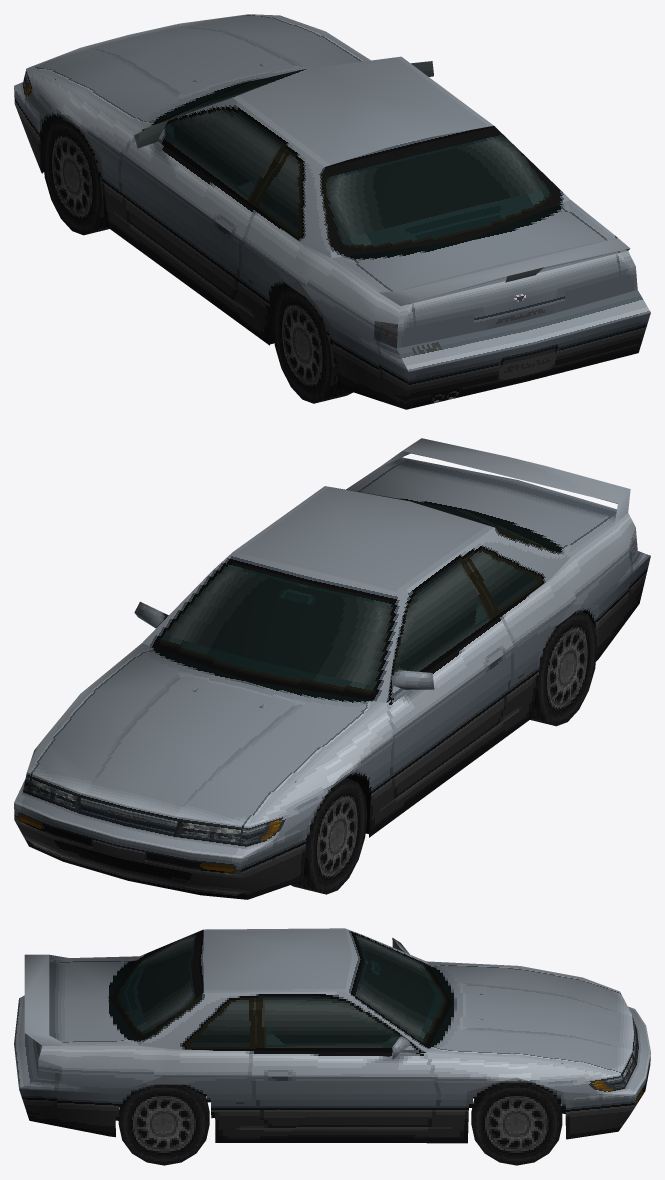
The model's file is GT_SIMULATION__NQ13N.glb.
3 renders of one model, top to bottom at view 1: azimuth 30°, elevation 25°; view 2: azimuth 150°, elevation 25°; view 3: azimuth 270°, elevation 25°, orthographic. The views are drawn at different scales.
Visible parts, largest first — view 1: Native body LOD0, Native wheel 2, Native wheel 0; view 2: Native body LOD0, Native wheel 0, Native wheel 2; view 3: Native body LOD0, Native wheel 1, Native wheel 3.
Boxes of the visible parts, x1,y1,x2,y2 form: Native body LOD0: (14,14,650,409); Native wheel 2: (272,287,353,403); Native wheel 0: (42,118,109,235); Native body LOD0: (14,438,650,899); Native wheel 0: (291,778,367,894); Native wheel 2: (530,611,597,726); Native body LOD0: (14,928,650,1143); Native wheel 1: (471,1082,562,1165); Native wheel 3: (118,1084,209,1165).
Size of the model in its own units: 1.84 by 1.28 by 4.47.
Materials: 12 (11 with a texture image).
